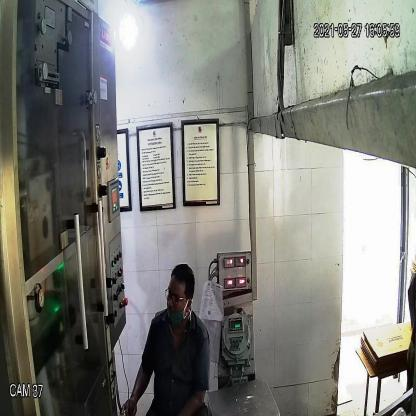goggles: (162, 283, 192, 307)
